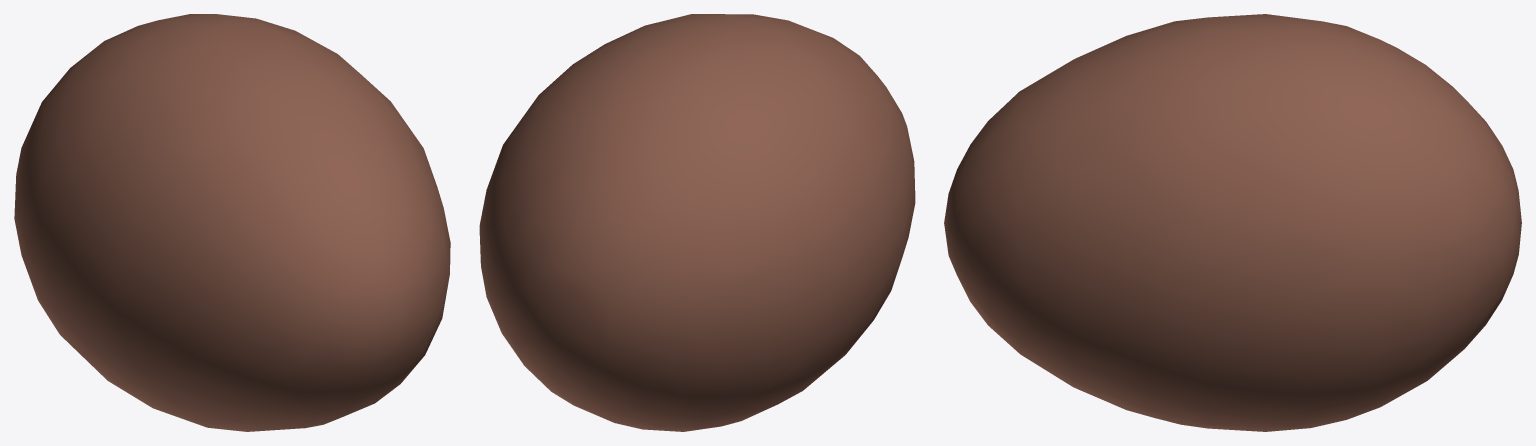
The model's file is MeshEgg_22_0.obj.
3 views of the same model, side by side, from view 1: azimuth 30°, elevation 25°; view 2: azimuth 150°, elevation 25°; view 3: azimuth 270°, elevation 25° (orthographic). The views are drawn at different scales.
Visible parts, largest first — view 1: Egg_22; view 2: Egg_22; view 3: Egg_22.
Boxes of the visible parts, left/top/right/bottom form: Egg_22: left=14, top=14, right=450, bottom=431; Egg_22: left=479, top=14, right=915, bottom=431; Egg_22: left=944, top=14, right=1521, bottom=431.
Size of the model in its own units: 0.0531 by 0.0531 by 0.0736.
